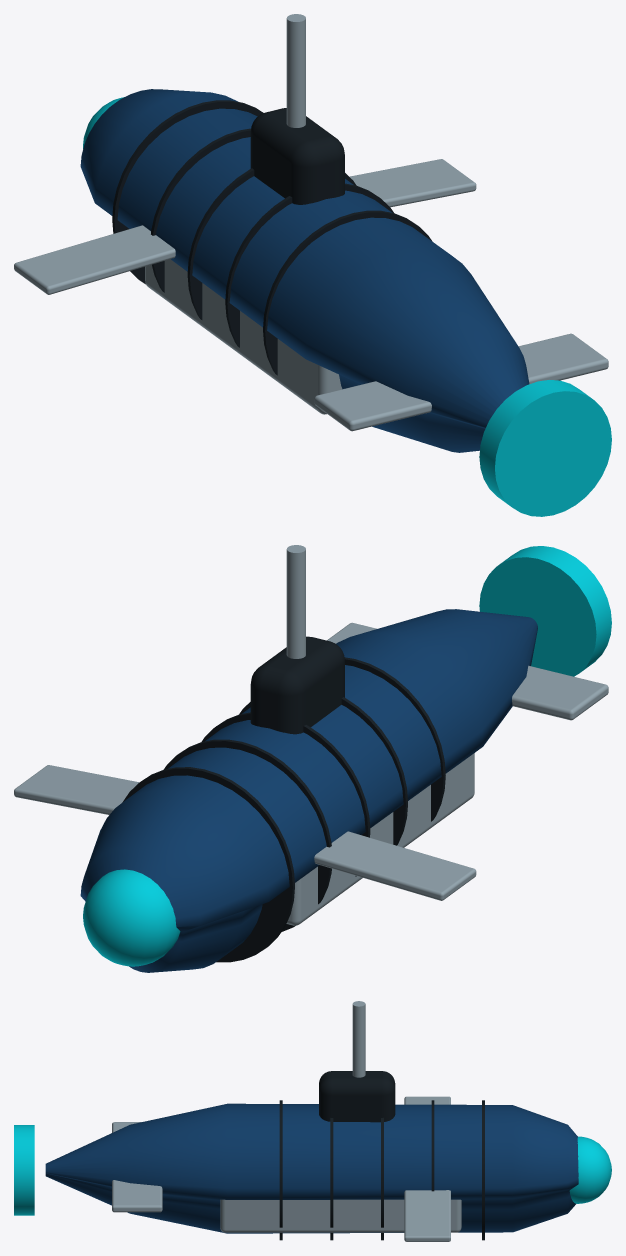
Rendered from abyss_one.glb.
3 views of the same model, one above another, from view 1: azimuth 30°, elevation 25°; view 2: azimuth 150°, elevation 25°; view 3: azimuth 270°, elevation 25° (orthographic). The views are drawn at different scales.
Parts seen in each view (by area): view 1: meet_mesh__pressure_hull__hydrodynamic_shell, meet_mesh__propulsor__rim_drive, meet_mesh__sail__command_sail, meet_mesh__tail_planes__horizontal_control, meet_mesh__ballast_left__variable_tank, meet_mesh__left_dive_plane__control_surface, meet_mesh__right_dive_plane__control_surface, meet_mesh__periscope__sensor_mast, meet_mesh__hull_frames__frame_0.92, meet_mesh__hull_frames__frame_-2.2, meet_mesh__hull_frames__frame_0.14, meet_mesh__hull_frames__frame_-1.42 (+1 smaller); view 2: meet_mesh__pressure_hull__hydrodynamic_shell, meet_mesh__propulsor__rim_drive, meet_mesh__sonar__bow_array, meet_mesh__sail__command_sail, meet_mesh__left_dive_plane__control_surface, meet_mesh__ballast_left__variable_tank, meet_mesh__hull_frames__frame_-2.2, meet_mesh__right_dive_plane__control_surface, meet_mesh__tail_planes__horizontal_control, meet_mesh__periscope__sensor_mast, meet_mesh__hull_frames__frame_-1.42, meet_mesh__hull_frames__frame_0.92 (+2 smaller); view 3: meet_mesh__pressure_hull__hydrodynamic_shell, meet_mesh__ballast_right__variable_tank, meet_mesh__sail__command_sail, meet_mesh__right_dive_plane__control_surface, meet_mesh__sonar__bow_array, meet_mesh__propulsor__rim_drive, meet_mesh__tail_planes__horizontal_control, meet_mesh__periscope__sensor_mast, meet_mesh__hull_frames__frame_0.92, meet_mesh__hull_frames__frame_0.14, meet_mesh__hull_frames__frame_-2.2, meet_mesh__left_dive_plane__control_surface (+2 smaller).
Boxes of the visible parts, x1,y1,x2,y2 form: meet_mesh__pressure_hull__hydrodynamic_shell: (80,89,529,452); meet_mesh__propulsor__rim_drive: (479,380,611,516); meet_mesh__sail__command_sail: (250,108,344,204); meet_mesh__tail_planes__horizontal_control: (314,333,608,431); meet_mesh__ballast_left__variable_tank: (145,259,342,414); meet_mesh__left_dive_plane__control_surface: (14,225,175,294); meet_mesh__right_dive_plane__control_surface: (349,159,476,207); meet_mesh__periscope__sensor_mast: (286,14,305,127); meet_mesh__hull_frames__frame_0.92: (263,210,432,375); meet_mesh__hull_frames__frame_-2.2: (112,100,263,284); meet_mesh__hull_frames__frame_0.14: (225,183,393,347); meet_mesh__hull_frames__frame_-1.42: (151,128,250,292); meet_mesh__pressure_hull__hydrodynamic_shell: (80,609,537,972); meet_mesh__propulsor__rim_drive: (479,546,611,676); meet_mesh__sonar__bow_array: (83,869,180,966); meet_mesh__sail__command_sail: (250,636,344,734); meet_mesh__left_dive_plane__control_surface: (314,831,476,900); meet_mesh__ballast_left__variable_tank: (286,753,474,925); meet_mesh__hull_frames__frame_-2.2: (122,767,294,962); meet_mesh__right_dive_plane__control_surface: (14,765,139,814); meet_mesh__tail_planes__horizontal_control: (327,622,608,720); meet_mesh__periscope__sensor_mast: (286,545,305,658); meet_mesh__hull_frames__frame_-1.42: (164,739,331,931); meet_mesh__hull_frames__frame_0.92: (344,657,445,821); meet_mesh__pressure_hull__hydrodynamic_shell: (45,1103,578,1233); meet_mesh__ballast_right__variable_tank: (220,1199,461,1232); meet_mesh__sail__command_sail: (319,1071,395,1122); meet_mesh__right_dive_plane__control_surface: (404,1190,450,1241); meet_mesh__sonar__bow_array: (569,1136,611,1203); meet_mesh__propulsor__rim_drive: (14,1125,34,1215); meet_mesh__tail_planes__horizontal_control: (112,1122,162,1212); meet_mesh__periscope__sensor_mast: (352,1001,365,1077); meet_mesh__hull_frames__frame_0.92: (279,1100,282,1240); meet_mesh__hull_frames__frame_0.14: (330,1118,333,1240); meet_mesh__hull_frames__frame_-2.2: (482,1100,484,1240); meet_mesh__left_dive_plane__control_surface: (404,1096,450,1104).
Bounding box in the file's own units: 5.14 × 3.91 × 9.22.
